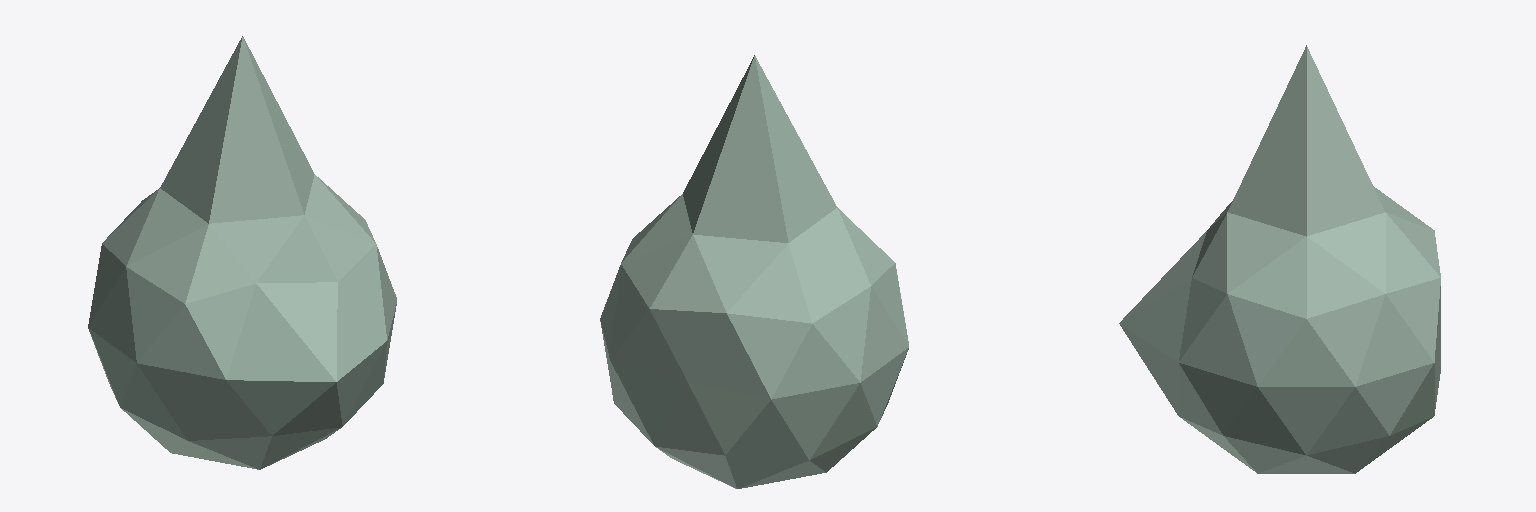
3 views of the same model, side by side, from view 1: azimuth 30°, elevation 25°; view 2: azimuth 150°, elevation 25°; view 3: azimuth 270°, elevation 25° (orthographic).
Parts seen in each view (by area): view 1: ICO球; view 2: ICO球; view 3: ICO球.
Part boxes in pixels (x1,y1,x2,y2): ICO球: (88,36,396,469); ICO球: (600,55,908,488); ICO球: (1119,45,1440,473).
Bounding box in the file's own units: 0.9511 × 1.47 × 1.02.
Materials: 1 (1 with a texture image).